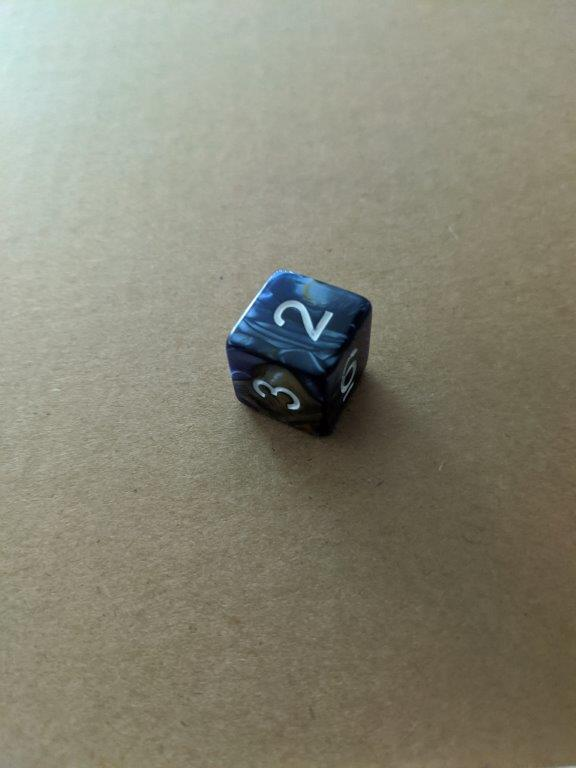d6-2: (225, 267, 372, 440)
